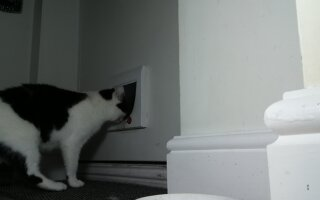bad: (1, 78, 133, 193)
